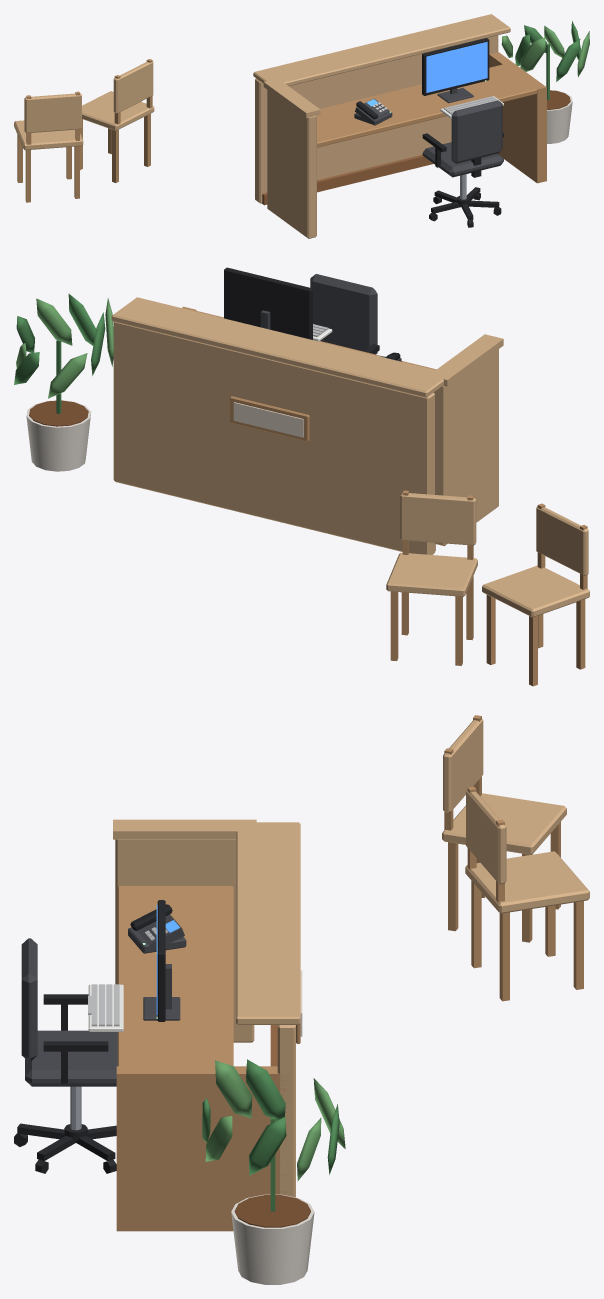
Rendered from zone_helpdesk.glb.
3 views of the same model, one above another, from view 1: azimuth 30°, elevation 25°; view 2: azimuth 150°, elevation 25°; view 3: azimuth 270°, elevation 25° (orthographic). The views are drawn at different scales.
Parts seen in each view (by area): view 1: zone_helpdesk, zone_helpdesk_screen; view 2: zone_helpdesk; view 3: zone_helpdesk.
Boxes of the visible parts, x1,y1,x2,y2 form: zone_helpdesk: [14, 14, 589, 238]; zone_helpdesk_screen: [366, 41, 487, 106]; zone_helpdesk: [14, 267, 589, 686]; zone_helpdesk: [14, 715, 589, 1284].
Bounding box in the file's own units: 4.12 × 1.15 × 2.49.
3 materials, 1 textured.
